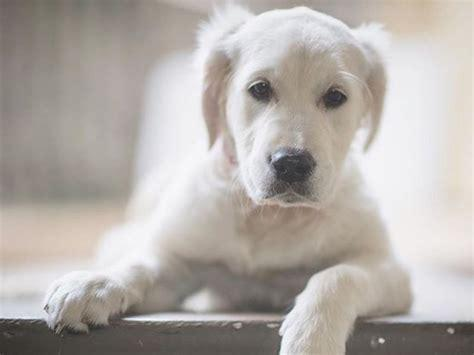dog: (46, 7, 411, 355)
